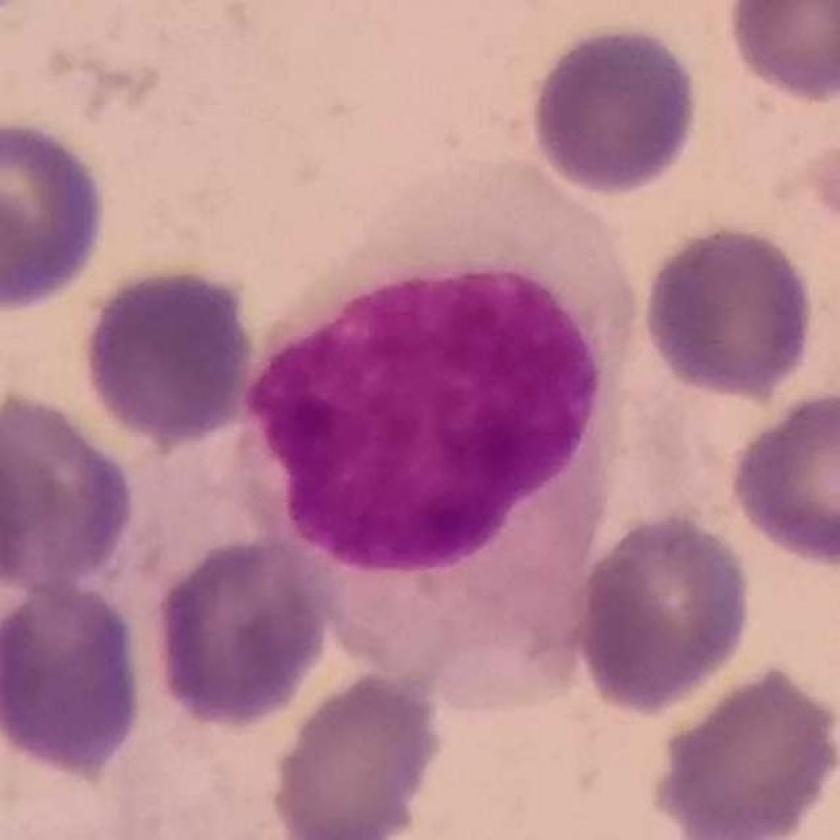monocyte: (220, 147, 647, 732)
